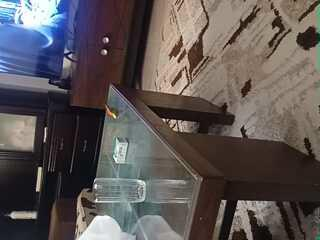cup: (49, 70, 81, 109)
